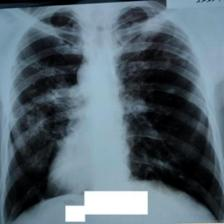tuberculosis: (1, 2, 224, 224)
